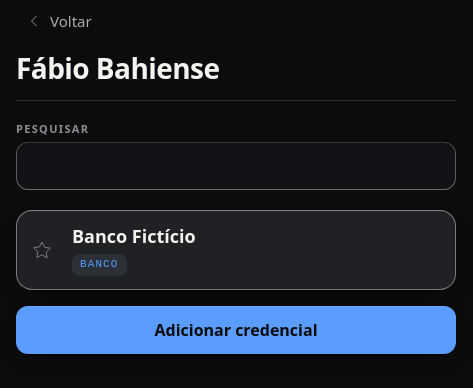
Test: PersonCredentialsScreen › filtra pela busca, dentro do escopo da pessoa
Type "banco" into the search field labelled "Pesquisar" at (236, 166), box left=16, top=142, right=456, bottom=190
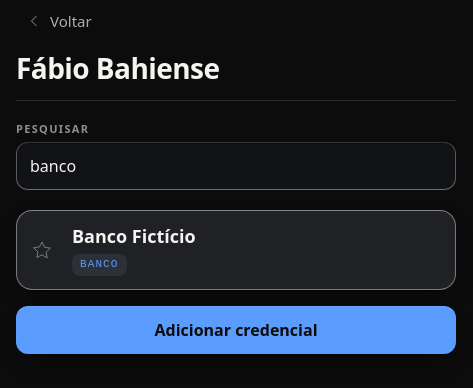
Expected: the text "Banco Fictício" is shown, left=72, top=224, right=196, bottom=248
Replace the text in the search field labelled "Pesquisar" with "nada-encontra-isso" at (236, 166), box left=16, top=142, right=456, bottom=190
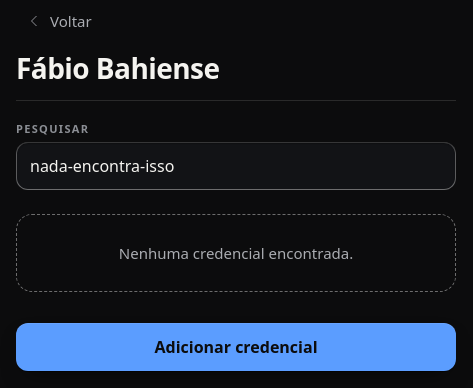
Now the button "Banco Fictício" is gone
